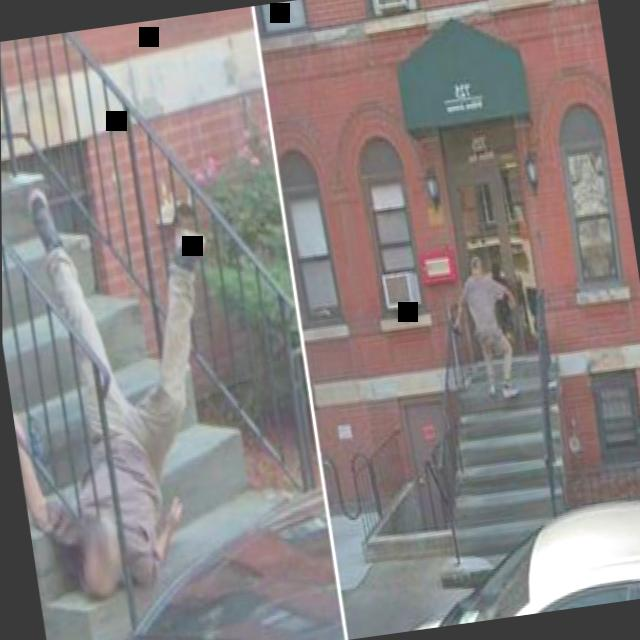Fall-Detected: (1, 138, 273, 611)
